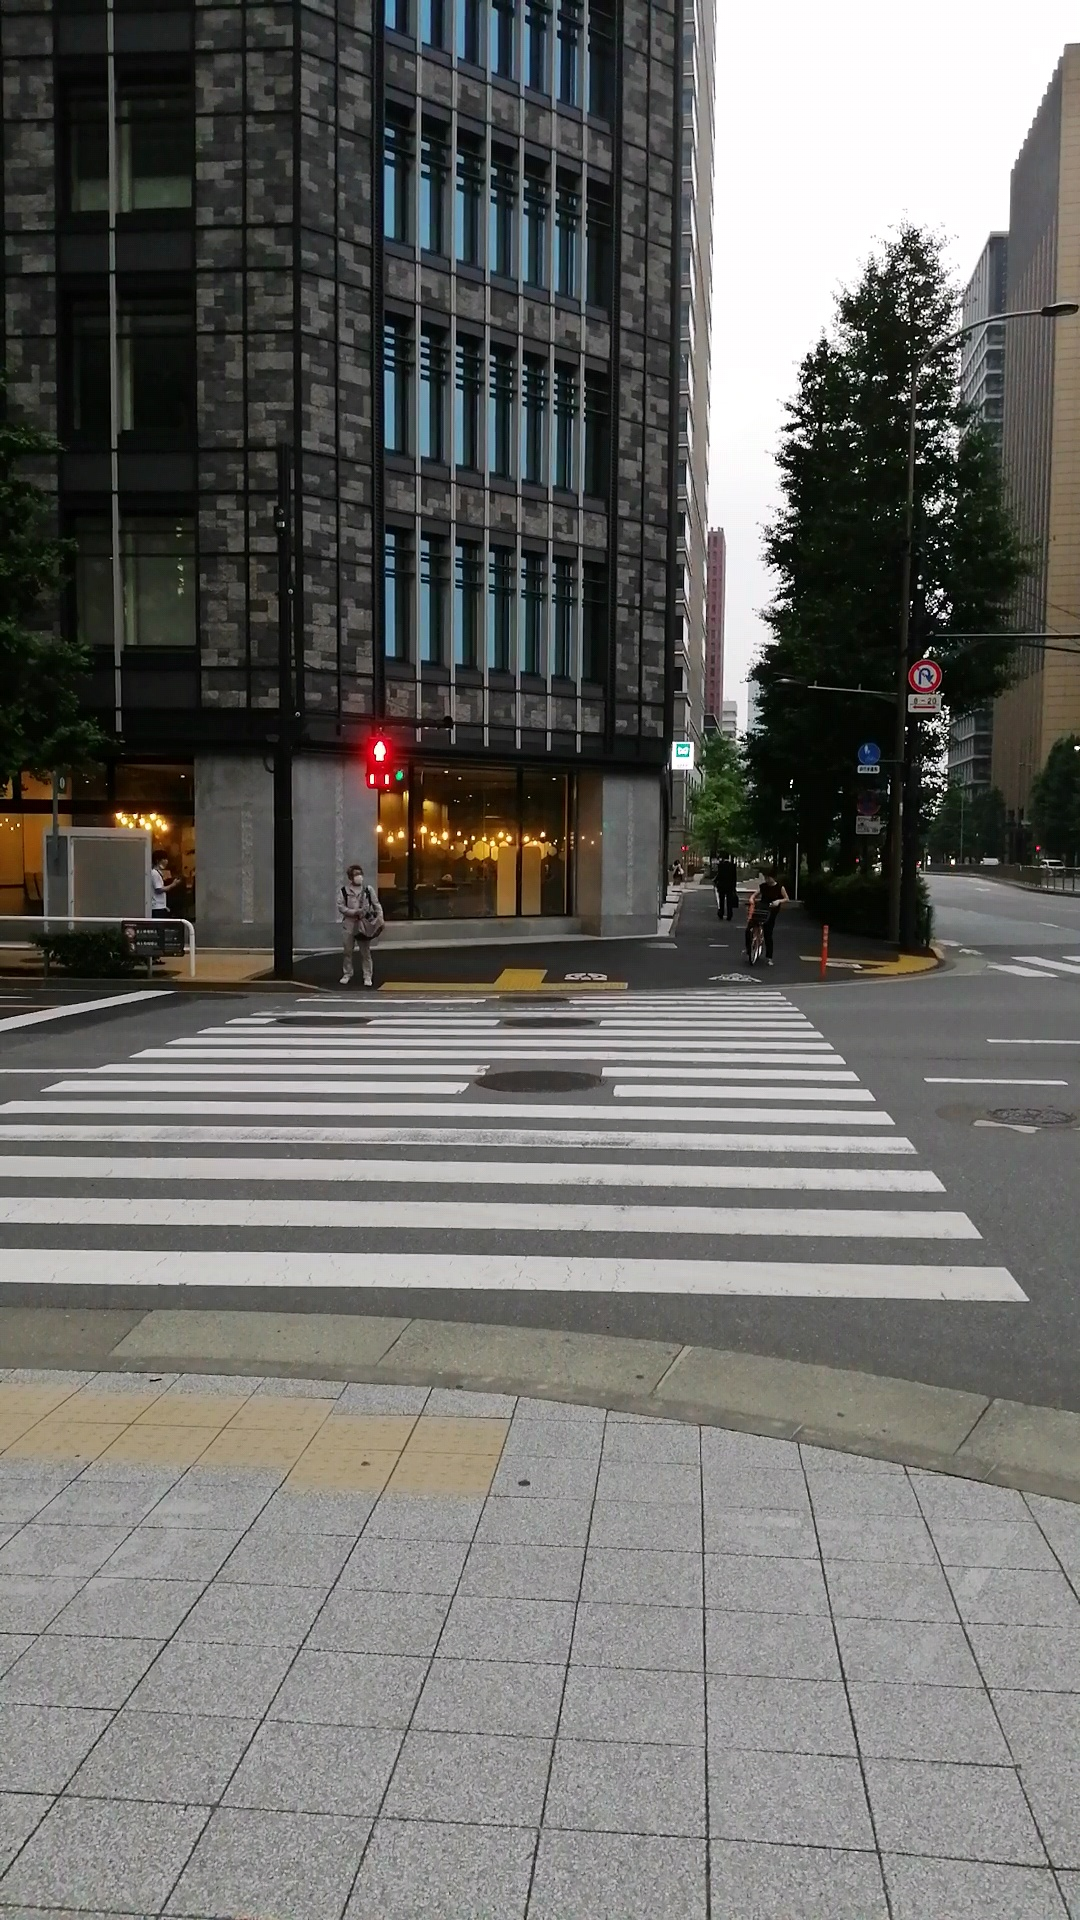red: (365, 735, 394, 789)
